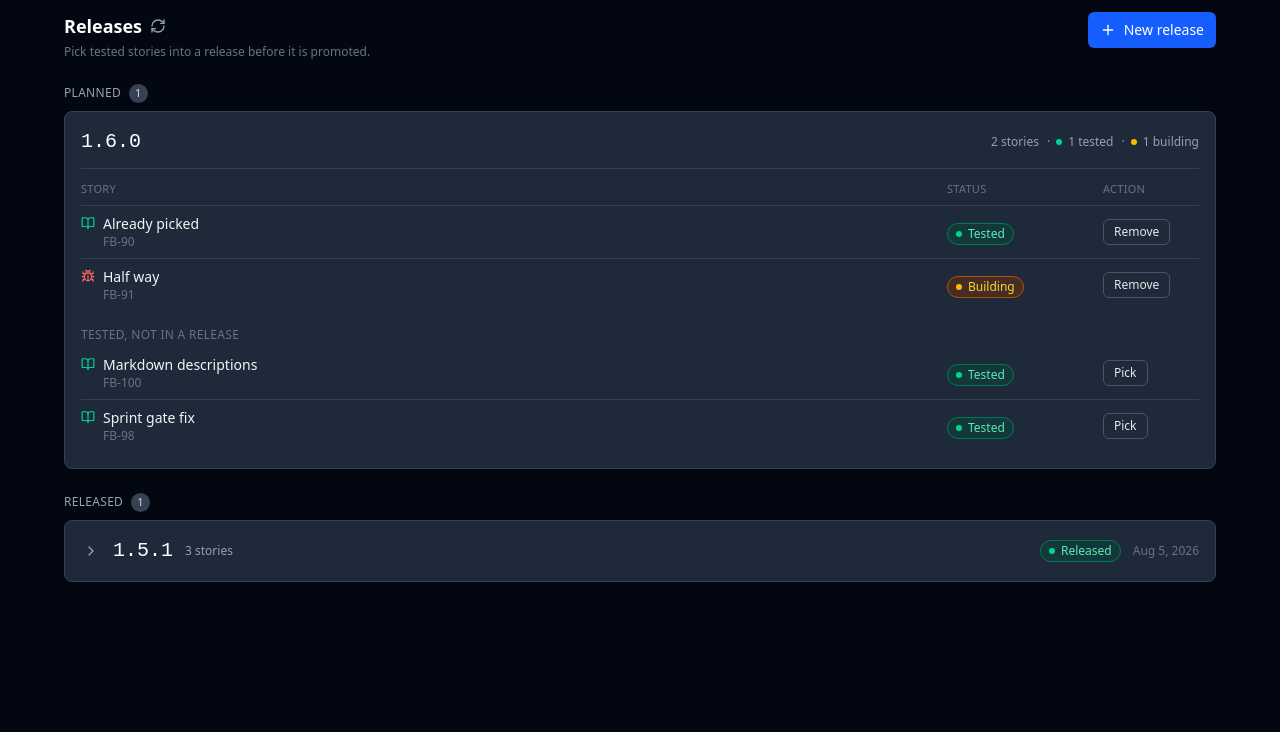
ReleasesPage › keeps a released Release collapsed until its chevron is clicked
The image size is (1280, 732).
Expected: the text "1.5.1" is shown, [113, 537, 173, 565]
Expected: the text "3 stories" is shown, [185, 543, 233, 559]
Click the button named "expand 1.5.1" at (91, 551), box [81, 541, 101, 561]
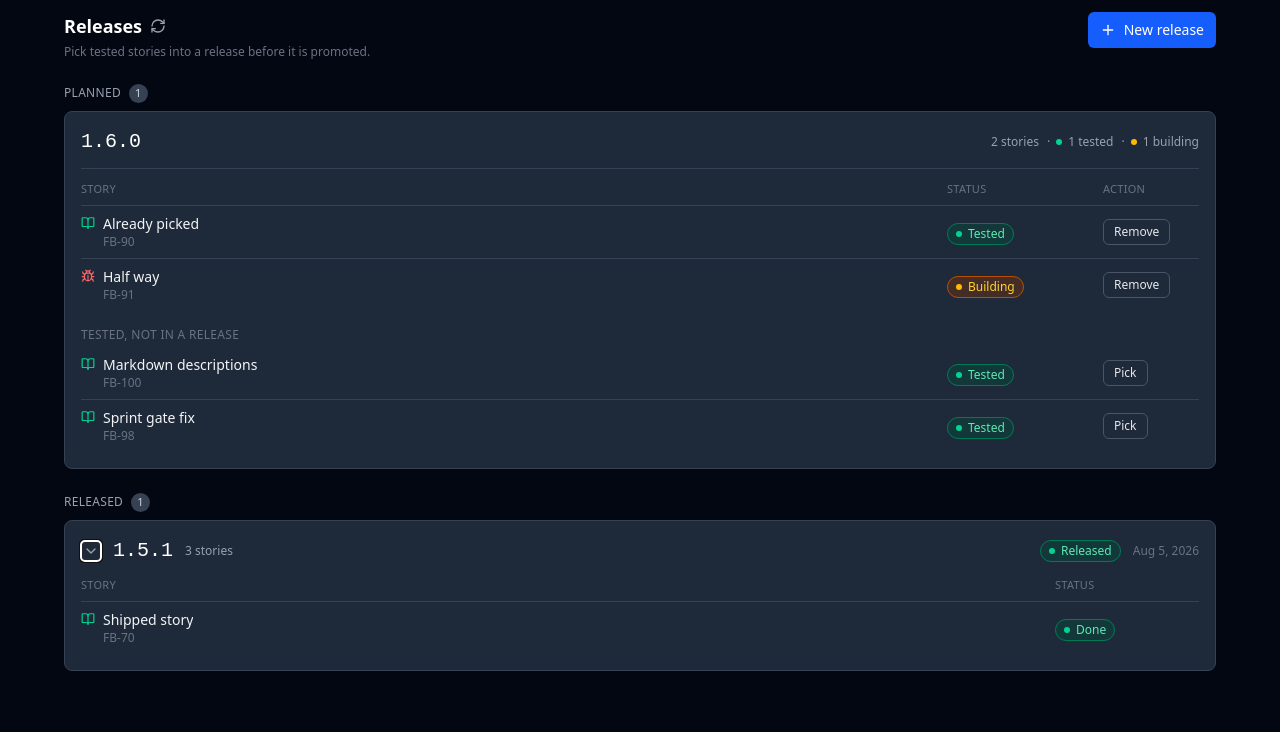
Expected: the button named "expand 1.5.1" is expanded, [81, 541, 101, 561]
Expected: the text "Story" below "1.5.1" is shown, [81, 577, 116, 592]
